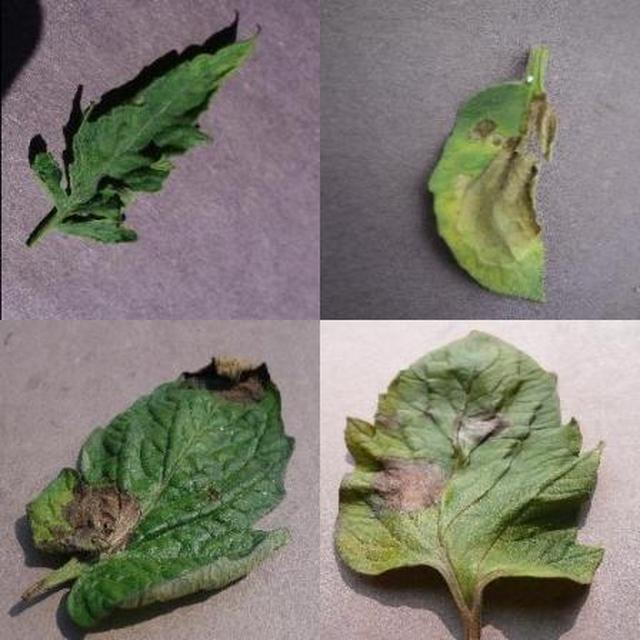Mosaic Virus Leaf: (193, 195, 640, 640)
